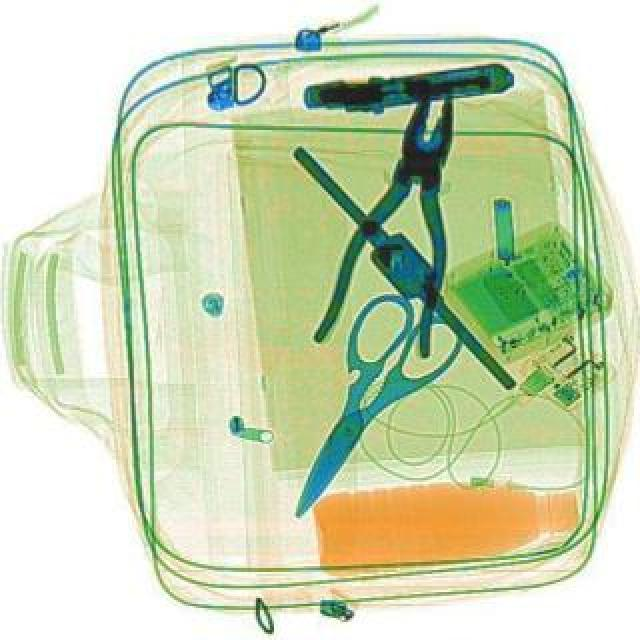gun: (298, 60, 514, 120)
pliers: (246, 280, 470, 540)
wrench: (306, 80, 498, 368)
